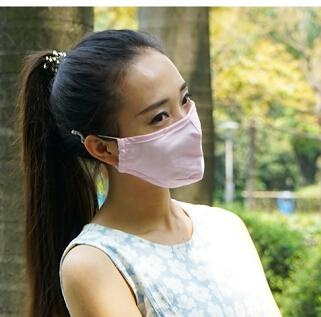face_mask: (114, 52, 203, 183)
